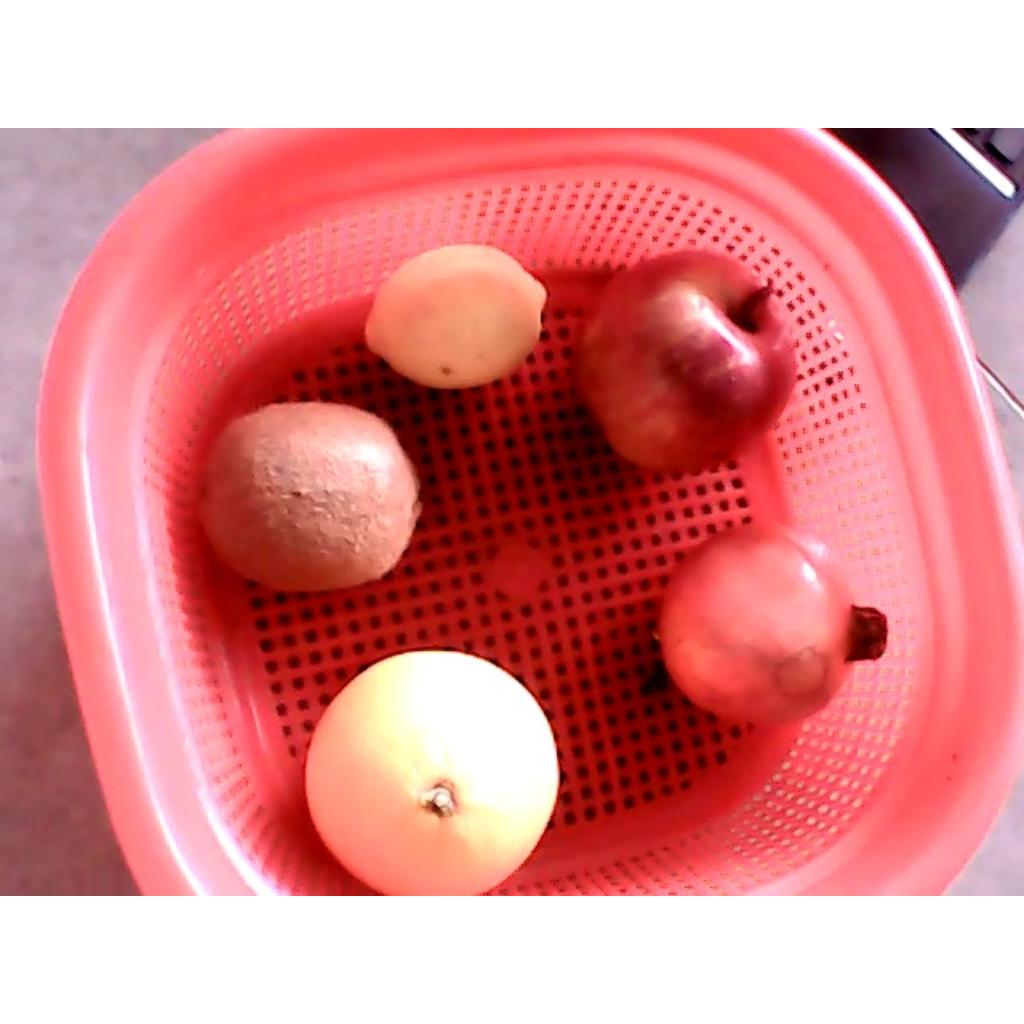apple: (575, 248, 801, 475)
kiwi: (195, 399, 421, 594)
lemon: (365, 245, 548, 390)
orange: (303, 648, 561, 894)
pomegranate: (657, 522, 889, 730)
